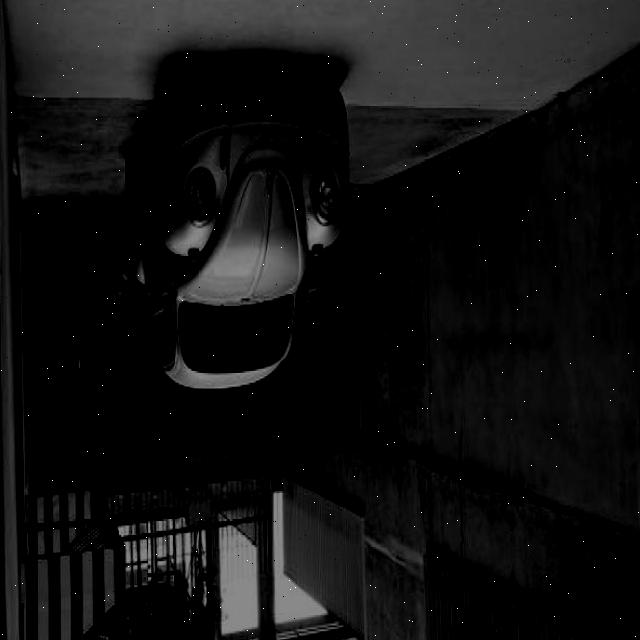car: (123, 73, 350, 388)
